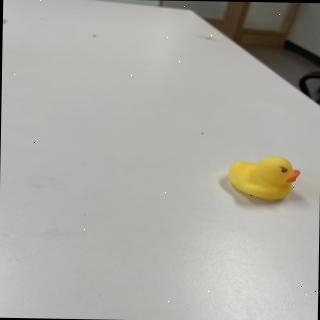duck_regular: (227, 155, 302, 202)
